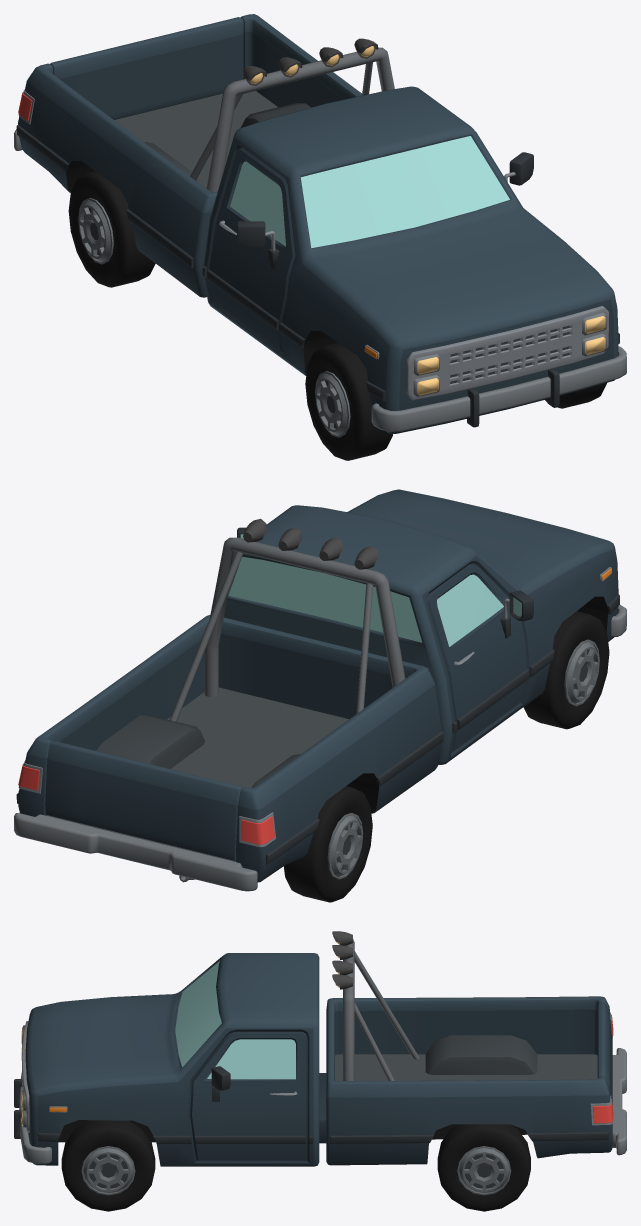
Rendered from SM_Vehicles_12_V1.fbx.
3 renders of one model, top to bottom at view 1: azimuth 30°, elevation 25°; view 2: azimuth 150°, elevation 25°; view 3: azimuth 270°, elevation 25°, orthographic. The views are drawn at different scales.
Visible parts, largest first — view 1: SM_Vehicles_12_V1, SM_Vehicles_12_FR, SM_Vehicles_12_RR, SM_Vehicles_12_FL; view 2: SM_Vehicles_12_V1, SM_Vehicles_12_RR, SM_Vehicles_12_FR; view 3: SM_Vehicles_12_V1, SM_Vehicles_12_FL, SM_Vehicles_12_RL.
Boxes of the visible parts, x1,y1,x2,y2 form: SM_Vehicles_12_V1: (14, 14, 626, 433); SM_Vehicles_12_FR: (305, 343, 392, 460); SM_Vehicles_12_RR: (68, 171, 155, 287); SM_Vehicles_12_FL: (545, 383, 606, 408); SM_Vehicles_12_V1: (14, 489, 626, 891); SM_Vehicles_12_RR: (284, 786, 372, 902); SM_Vehicles_12_FR: (523, 611, 609, 729); SM_Vehicles_12_V1: (14, 931, 626, 1166); SM_Vehicles_12_FL: (61, 1120, 155, 1211); SM_Vehicles_12_RL: (437, 1124, 530, 1211).
Bounding box in the file's own units: 2.25 × 1.94 × 5.09.
